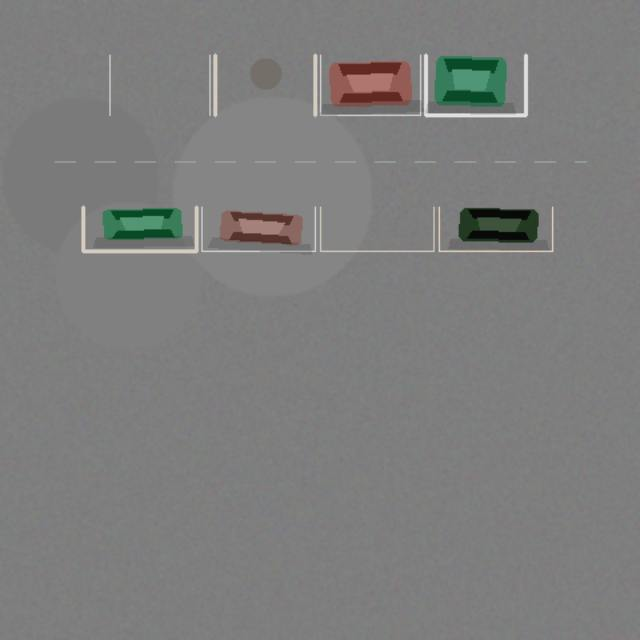space-empty: (109, 55, 209, 115), (215, 55, 315, 115), (320, 207, 433, 251)
space-occupied: (320, 55, 420, 115), (425, 55, 525, 115), (201, 207, 315, 251), (83, 207, 196, 251), (439, 207, 552, 251)
